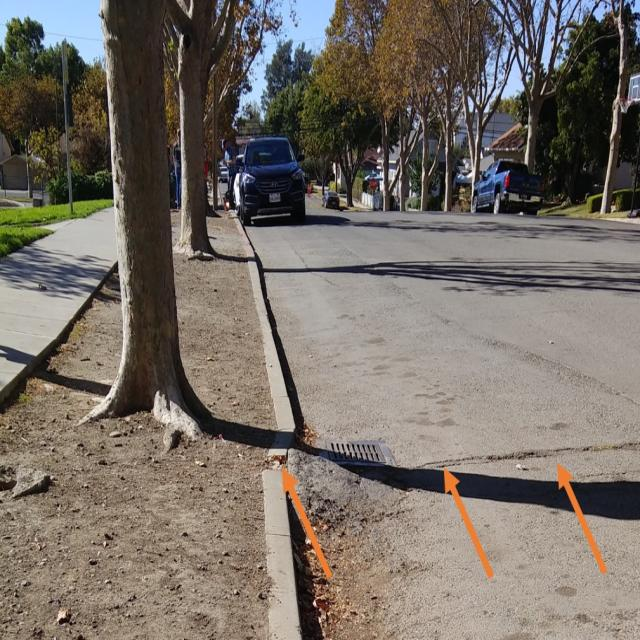Pothole: (256, 388, 639, 640)
